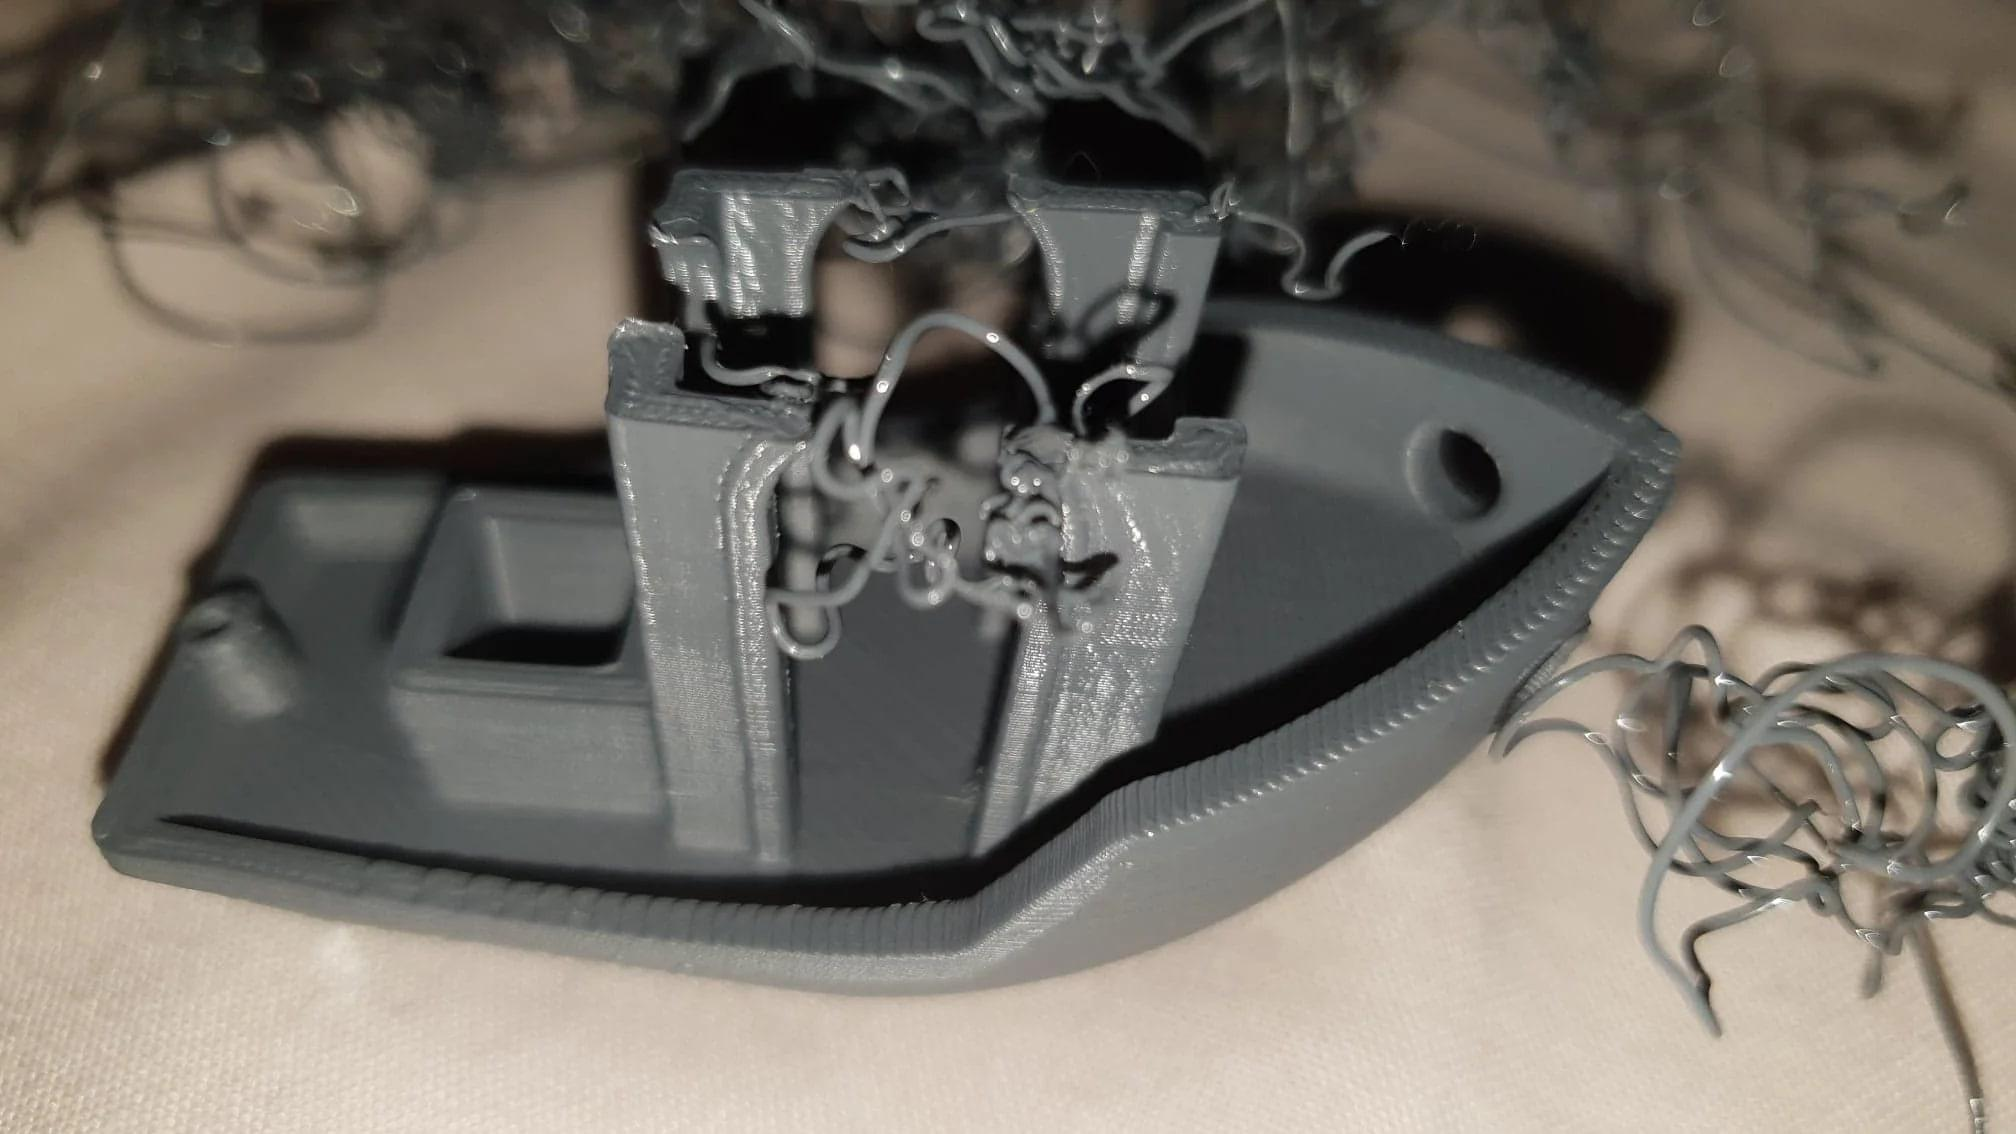Printing-Artifact: (0, 0, 1817, 331), (1483, 591, 2016, 1008), (741, 363, 1104, 666)
